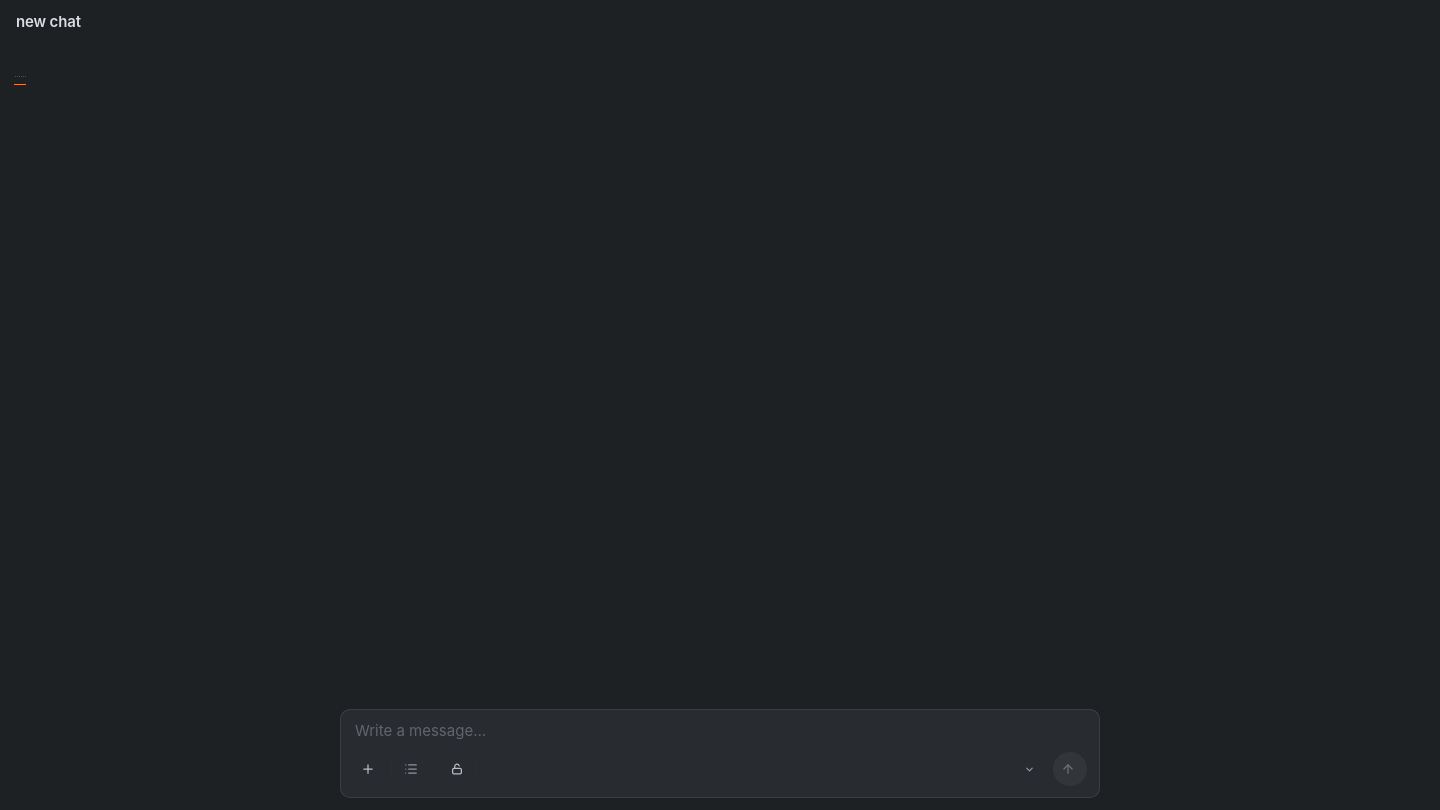
Scenario: la marge annotée › n'offre plus de forme d'épingle à choisir dans le menu de l'entrée
Step 1. Right-click the 2nd button with class "tl-mark" → x=16, y=84, box [2, 80, 30, 88]
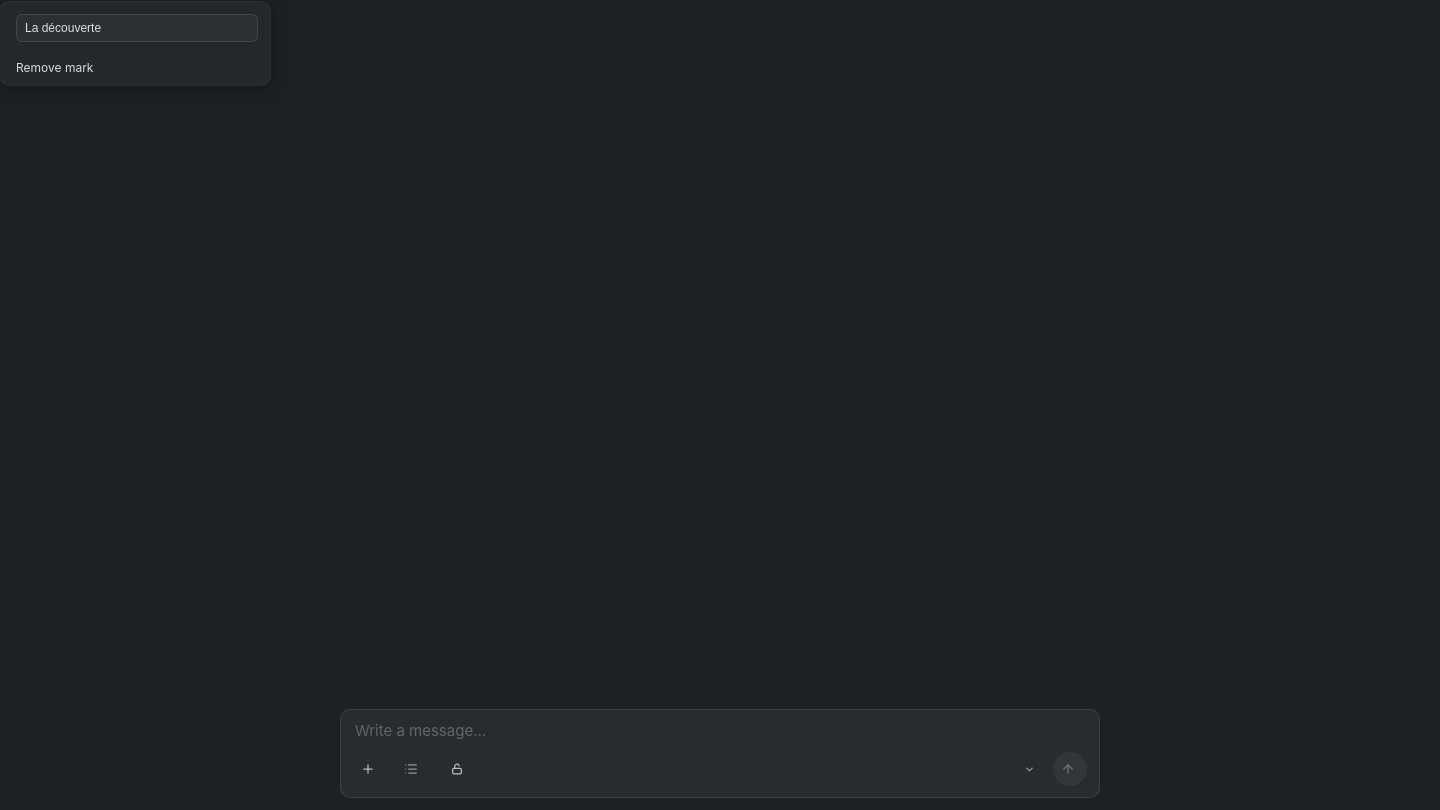
Expected: the dialog is shown, [0, 2, 270, 84]
